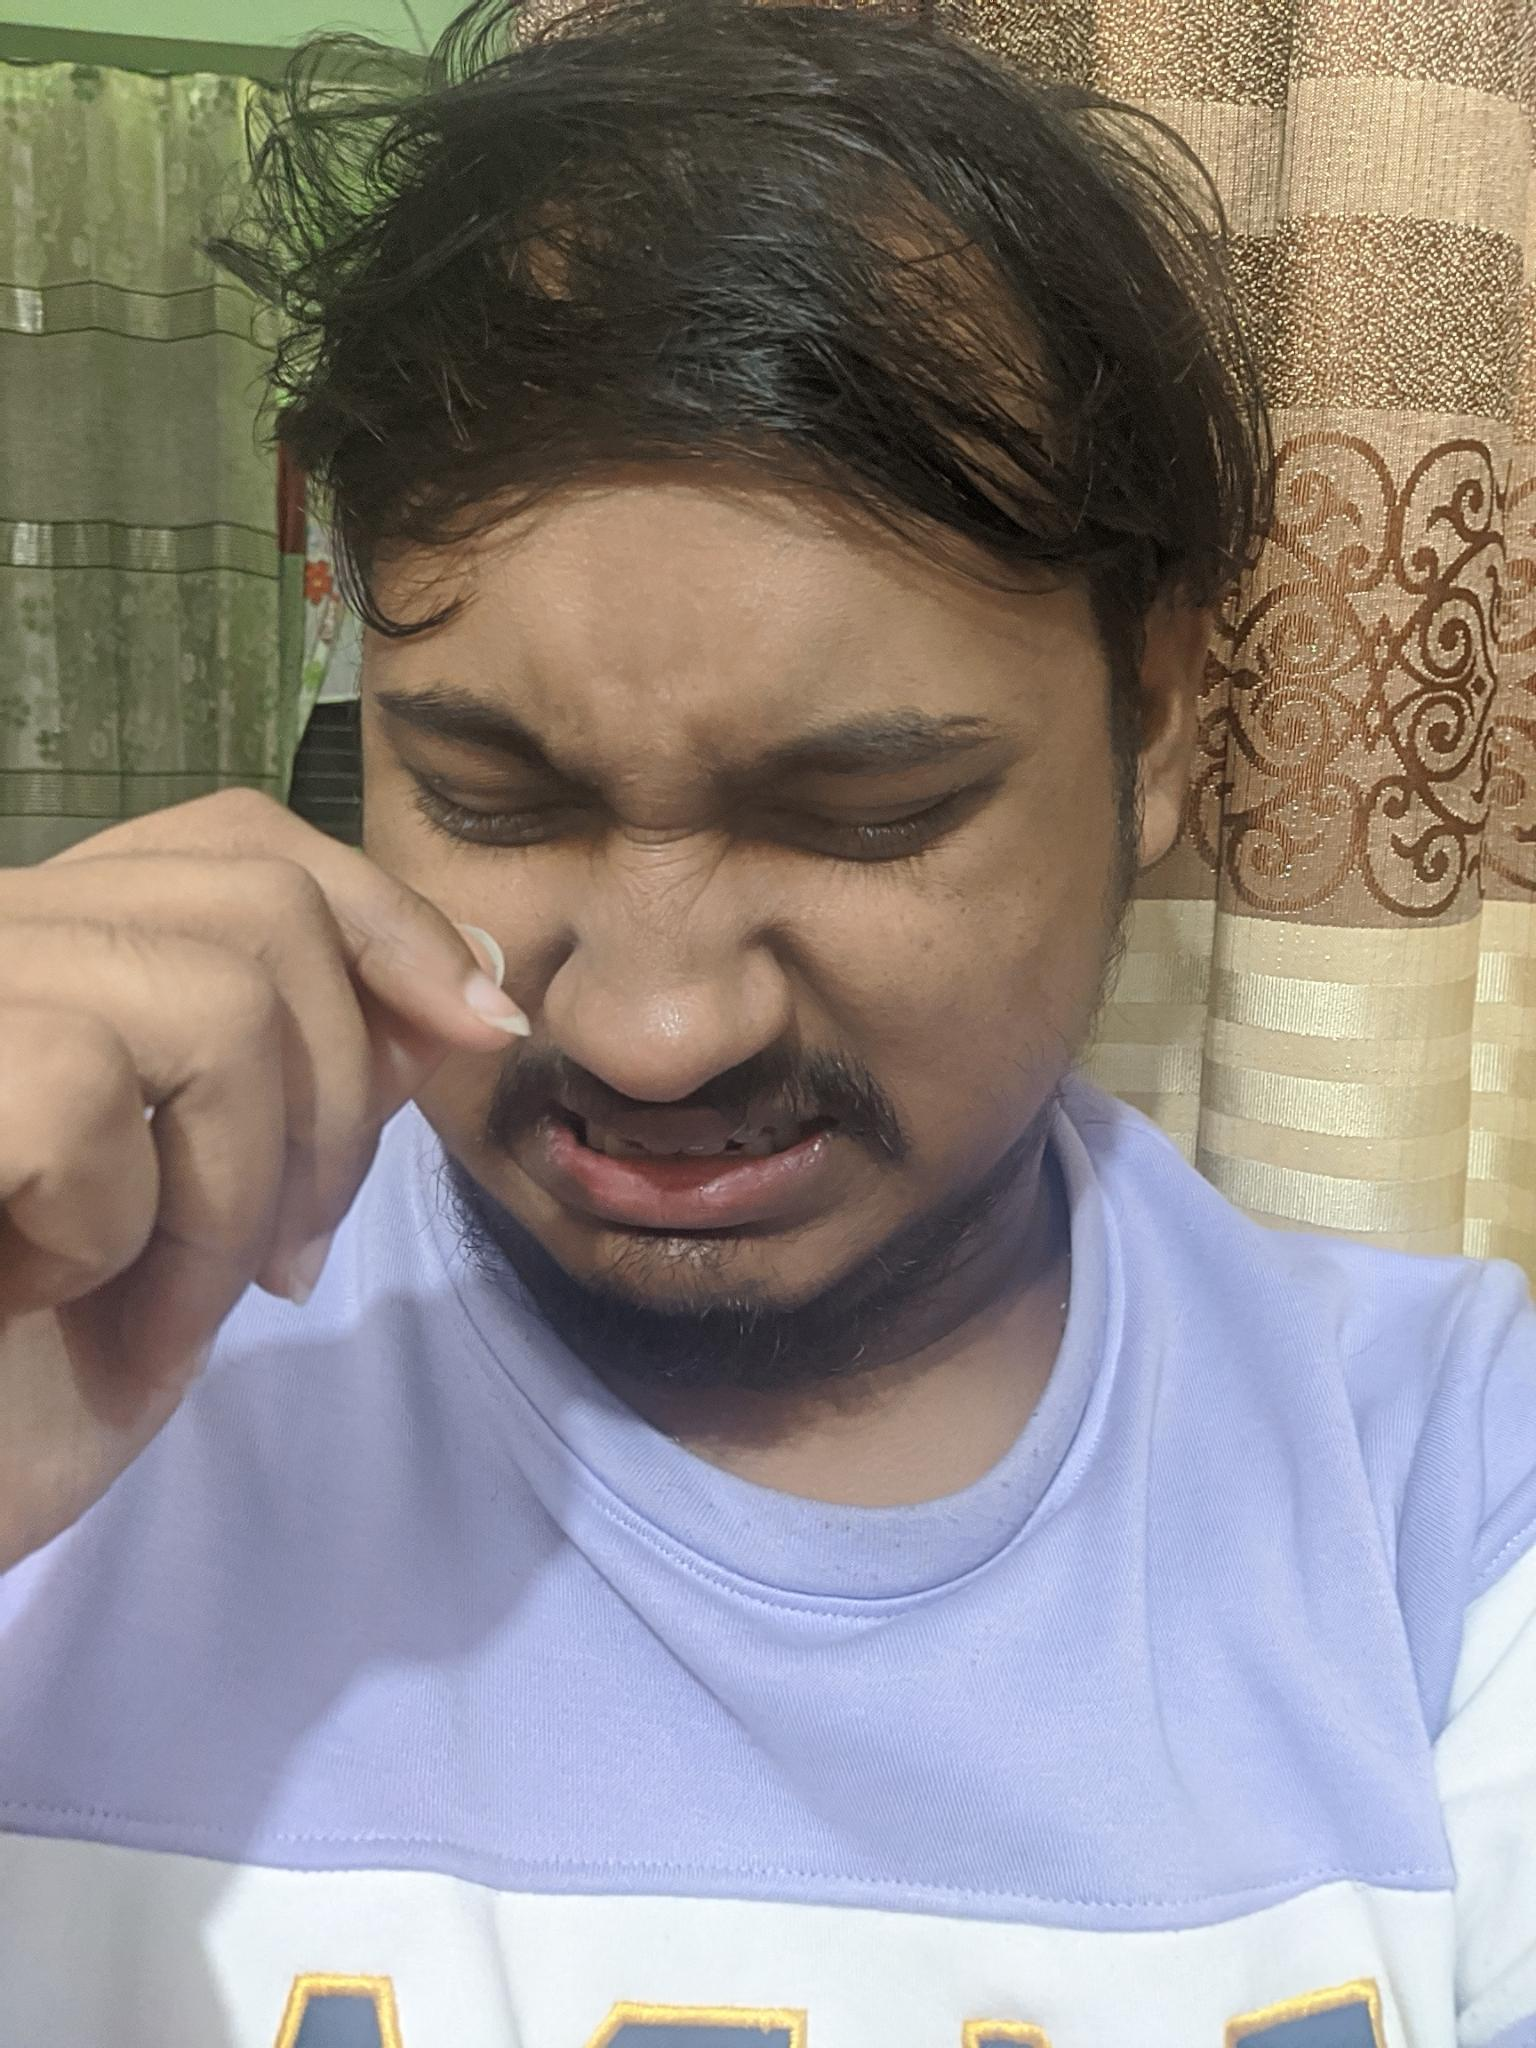Disgust: (321, 574, 1091, 1367)
